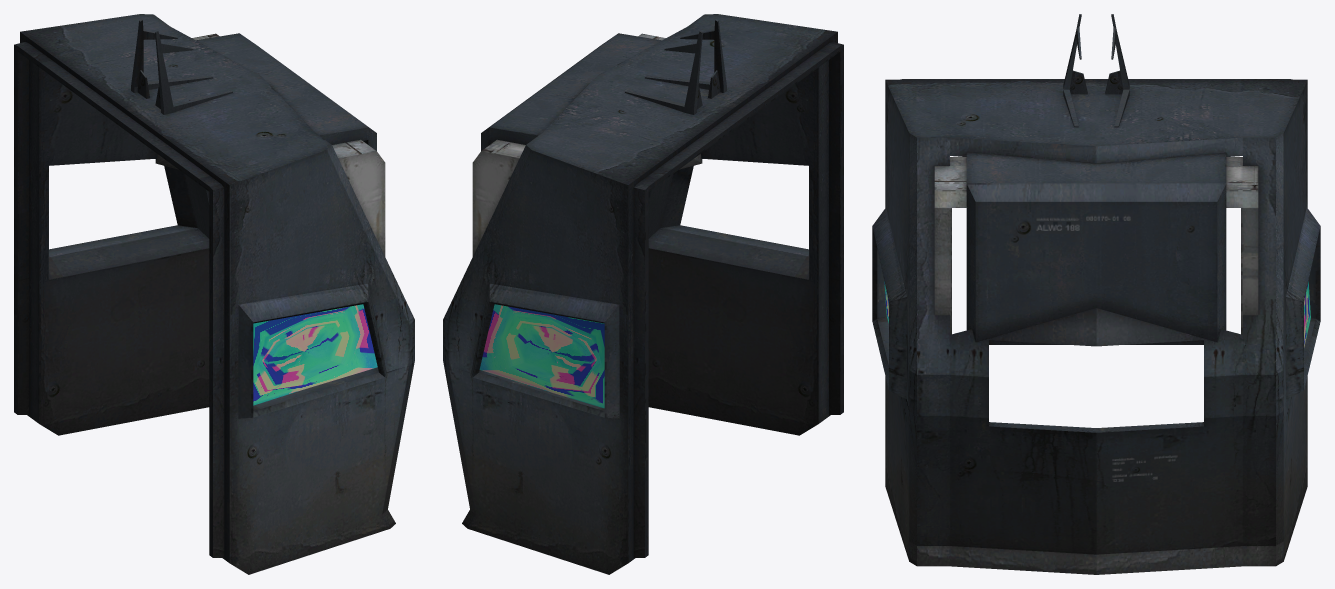
File: combine_booth_short01a.glb
3 views of the same model, side by side, from view 1: azimuth 30°, elevation 25°; view 2: azimuth 150°, elevation 25°; view 3: azimuth 270°, elevation 25° (orthographic).
Parts seen in each view (by area): view 1: combine_booth_short01a; view 2: combine_booth_short01a; view 3: combine_booth_short01a.
Part boxes in pixels (left/top/right/bottom): combine_booth_short01a: left=14, top=14, right=414, bottom=574; combine_booth_short01a: left=443, top=14, right=843, bottom=574; combine_booth_short01a: left=872, top=14, right=1320, bottom=574.
Bounding box in the file's own units: 1.52 × 3.01 × 2.57.
2 materials, 2 textured.
